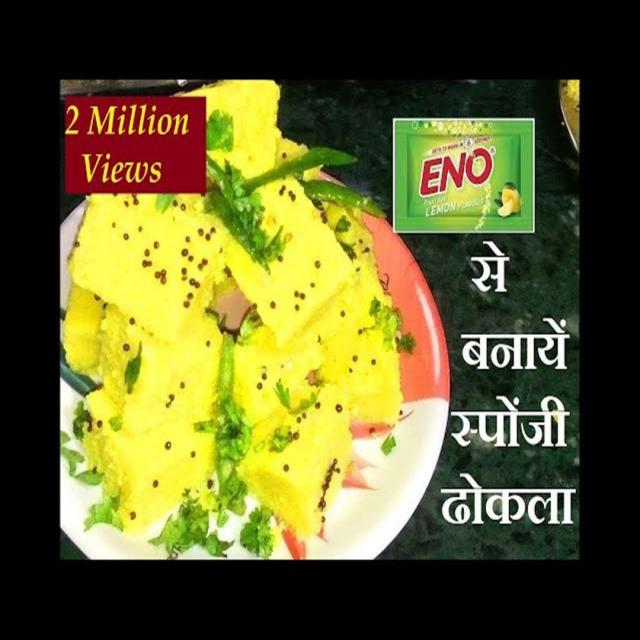dhokla: (70, 75, 397, 543)
